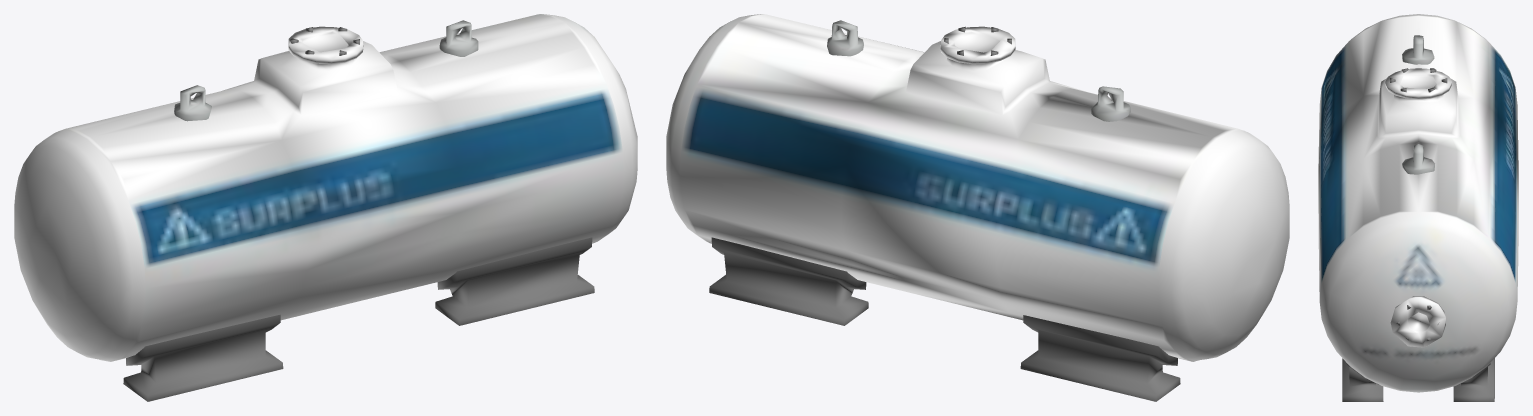
File: ew-horizontal-tank.lod1.glb
3 views of the same model, side by side, from view 1: azimuth 30°, elevation 25°; view 2: azimuth 150°, elevation 25°; view 3: azimuth 270°, elevation 25° (orthographic). The views are drawn at different scales.
Parts seen in each view (by area): view 1: TankLegs_low__0; view 2: TankLegs_low__0; view 3: TankLegs_low__0.
Part boxes in pixels (left/top/right/bottom): TankLegs_low__0: left=14, top=14, right=637, bottom=401; TankLegs_low__0: left=666, top=14, right=1289, bottom=401; TankLegs_low__0: left=1318, top=14, right=1518, bottom=401.
Bounding box in the file's own units: 12 × 5.45 × 4.29.
Materials: 1 (1 with a texture image).
